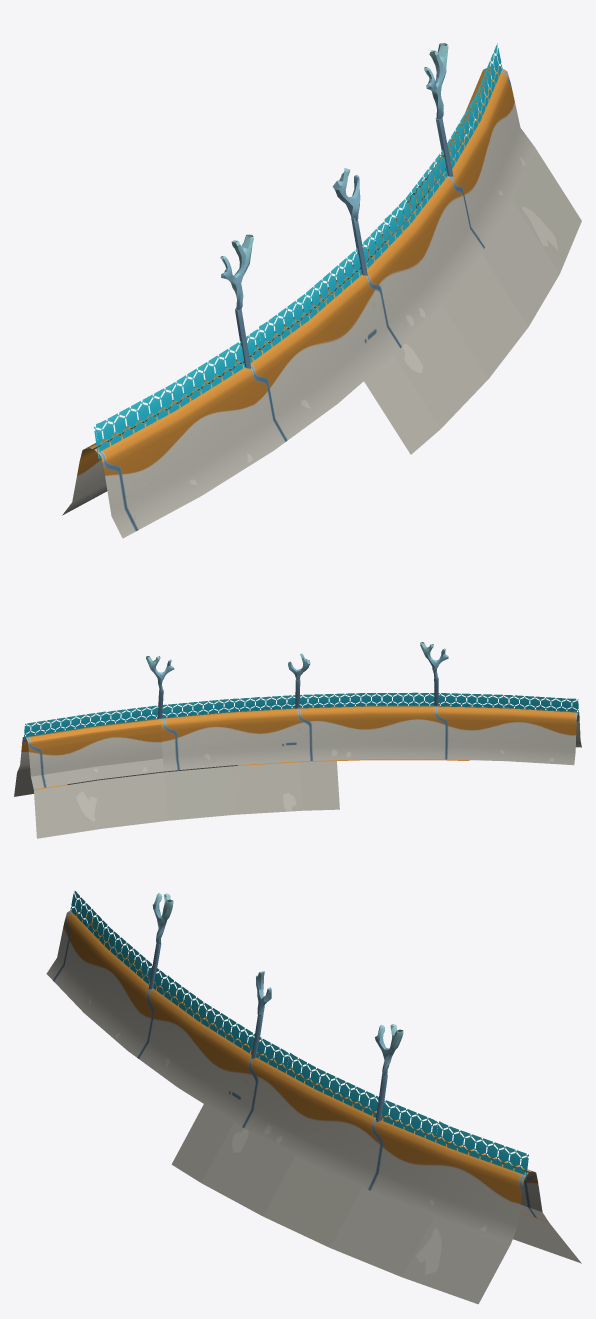
Rendered from S_Wall_06.fbx.
3 views of the same model, one above another, from view 1: azimuth 30°, elevation 25°; view 2: azimuth 150°, elevation 25°; view 3: azimuth 270°, elevation 25° (orthographic). The views are drawn at different scales.
Parts seen in each view (by area): view 1: S_Wall_06; view 2: S_Wall_06; view 3: S_Wall_06.
Part boxes in pixels (left/top/right/bottom): S_Wall_06: left=62, top=43, right=581, bottom=538; S_Wall_06: left=14, top=642, right=581, bottom=838; S_Wall_06: left=46, top=891, right=581, bottom=1304.
Size of the model in its own units: 1308 by 417 by 1050.
1 material, 1 textured.
